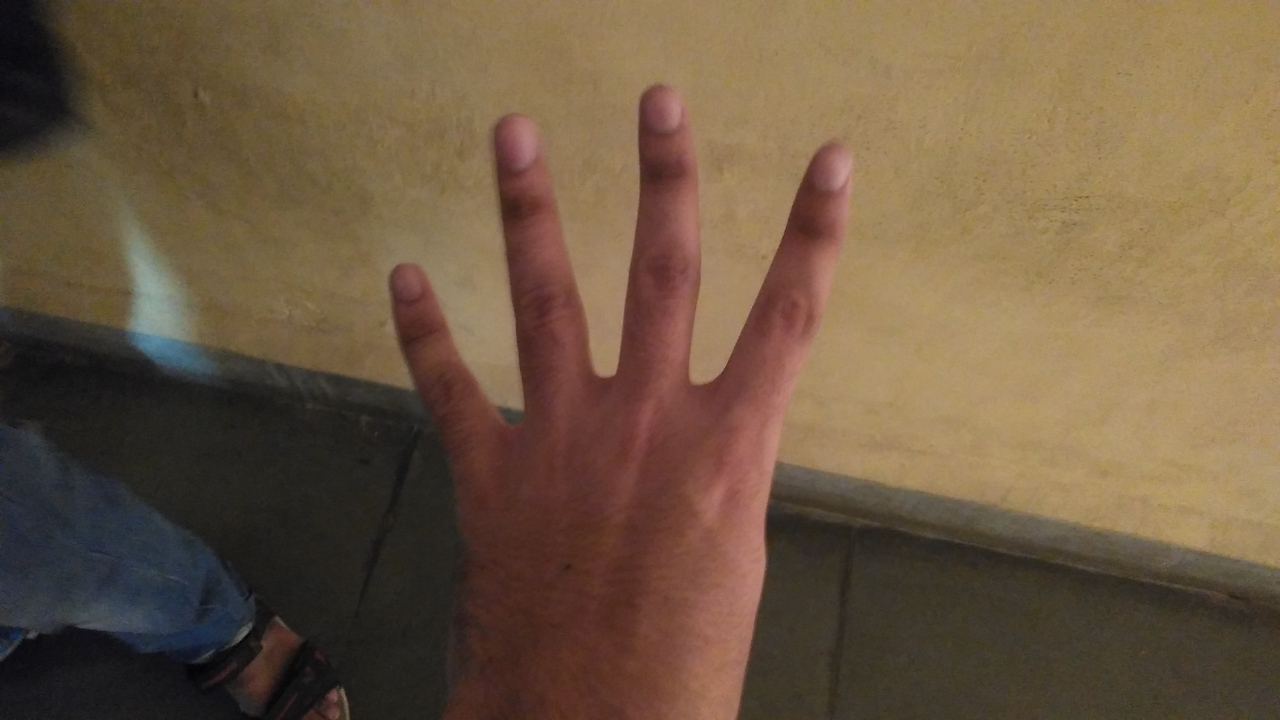fingertip: (378, 256, 440, 318), (490, 112, 548, 172), (802, 138, 864, 192), (634, 82, 696, 136)
